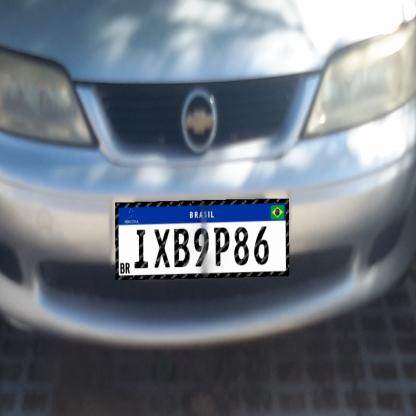PlacaM: (115, 199, 289, 280)
